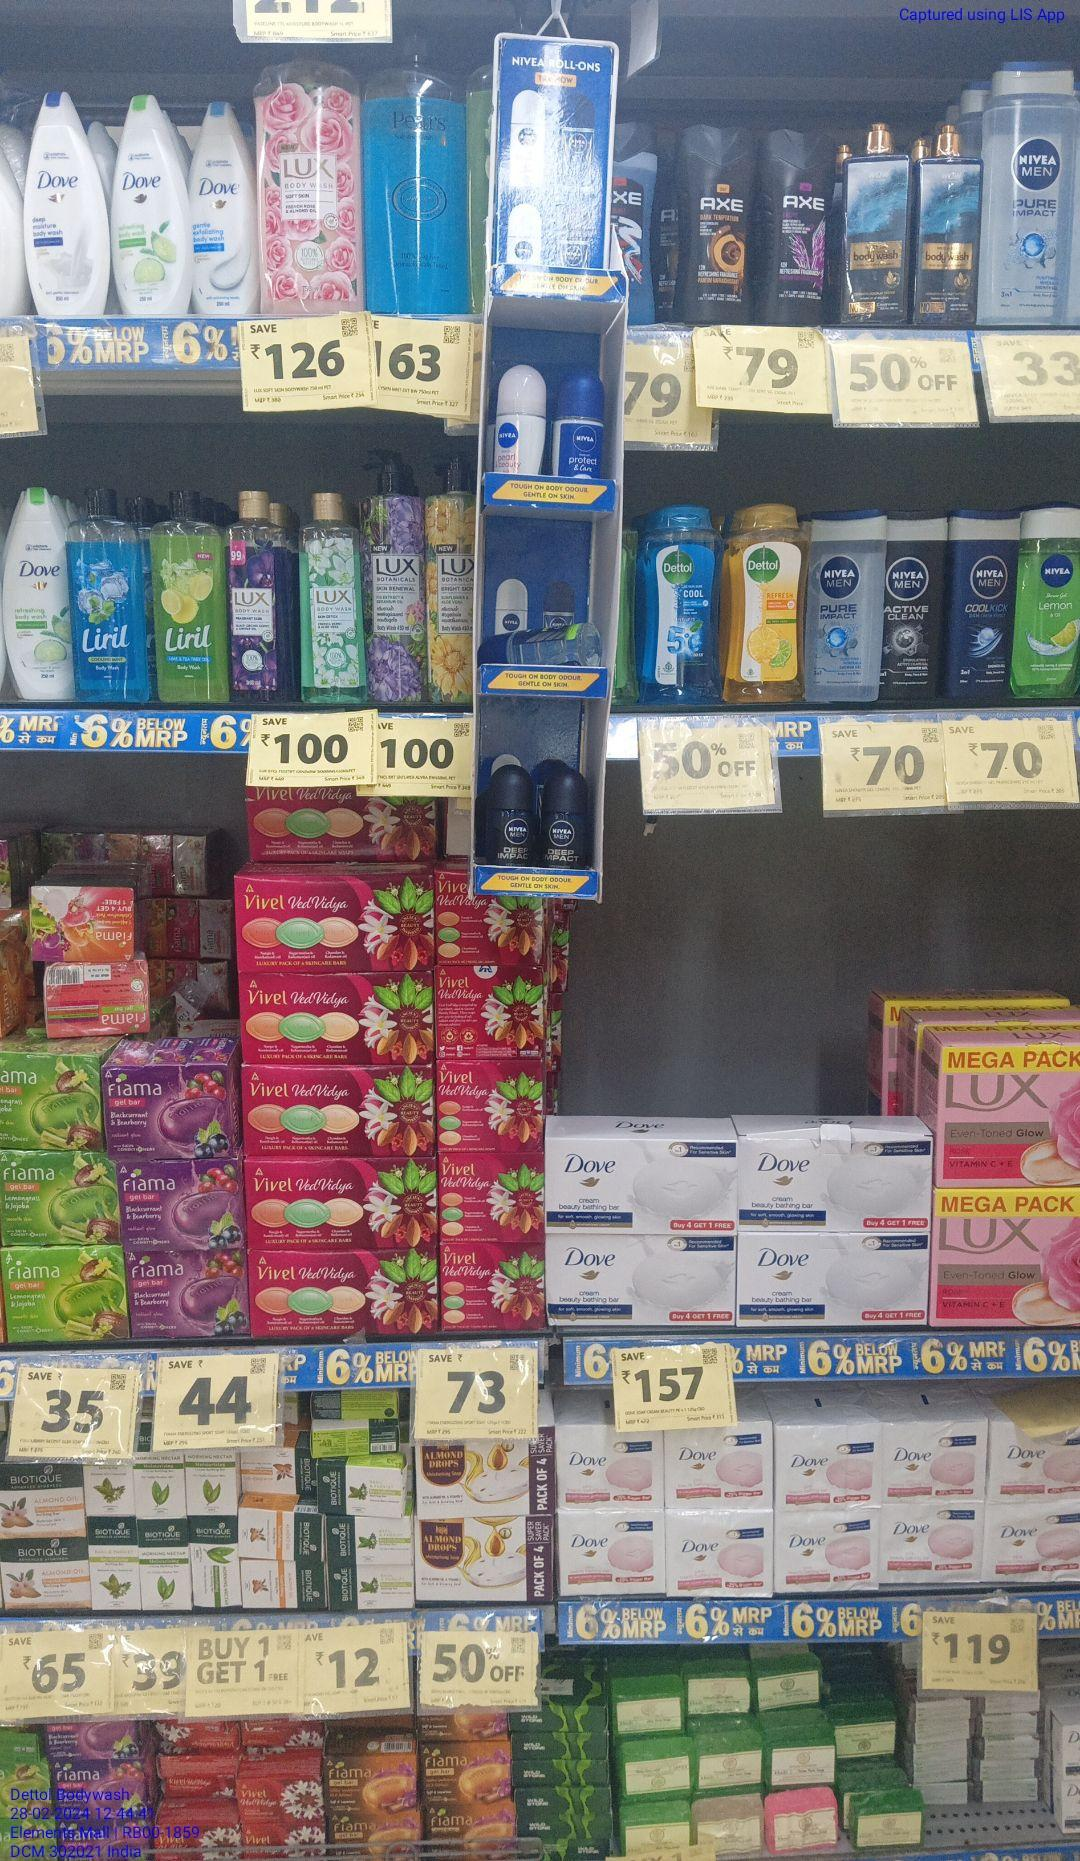Dettol_Bodywash_Cool: (644, 497, 720, 704)
Dettol_Bodywash_Refresh: (729, 496, 802, 702)
Dove_Deep_Moisture_Body_Wash_250ML: (24, 89, 107, 321)
Dove_Gentle_Exfoliating_Body_Wash_250ML: (194, 99, 258, 315)
Dove_Refreshing_Body_Wash_250ML: (116, 91, 189, 323), (8, 486, 72, 704)
Liril_Cooling_Mint_Body_Wash_250ML: (76, 482, 150, 707)
Liril_Lime_and_Tea_Tree_Oil_Body_Wash_250ML: (156, 488, 229, 707)
Lux_Black_Orchid_Scent_and_Juniper_Oil_Body_Wash_245ML: (230, 485, 284, 704)
Lux_Body_Wash_Skin_Detox_Freesia_Scent_and_Alove_Vera_245ML: (297, 490, 368, 707)
Nivea_Shower_Gel_Lemon_and_Oil_250ML: (1014, 500, 1080, 699)
